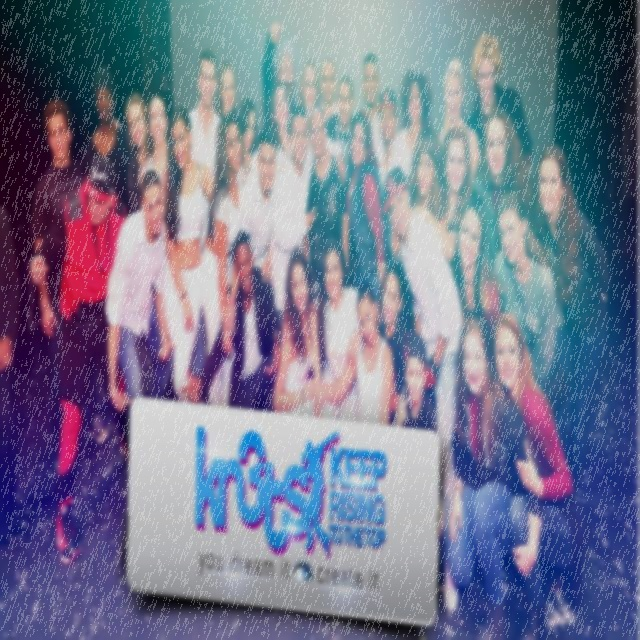pessoa: (29, 154, 129, 567), (382, 165, 467, 600), (442, 308, 547, 640), (491, 311, 584, 639), (28, 96, 110, 450), (530, 142, 610, 498), (104, 168, 176, 458), (178, 228, 282, 413), (270, 102, 346, 330), (492, 193, 566, 419), (160, 104, 212, 403), (198, 110, 248, 406), (468, 106, 536, 277), (315, 282, 394, 427), (345, 108, 394, 330), (1, 195, 30, 566), (464, 33, 535, 178), (302, 102, 351, 312), (234, 124, 282, 336), (450, 186, 502, 377), (313, 235, 363, 420), (272, 247, 324, 420), (82, 65, 133, 221), (406, 122, 455, 262), (375, 86, 414, 260), (184, 42, 227, 186), (377, 261, 410, 426), (438, 56, 481, 182), (394, 328, 437, 434), (362, 51, 399, 169), (442, 122, 474, 258), (260, 19, 298, 131), (140, 90, 169, 214), (325, 74, 355, 189), (398, 68, 434, 158), (124, 90, 150, 214), (268, 78, 294, 202), (296, 56, 324, 124), (238, 96, 258, 188), (320, 58, 338, 124), (218, 60, 236, 119)
